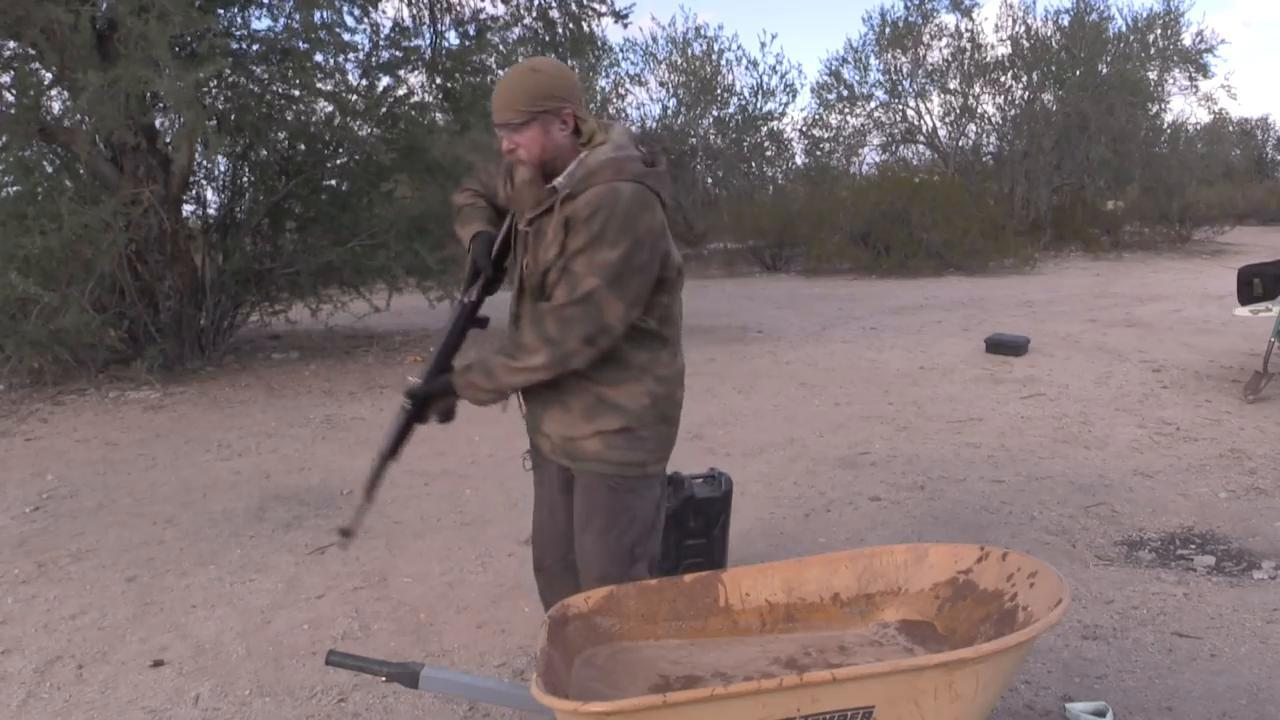AK47 Rifle: (335, 207, 513, 550)
